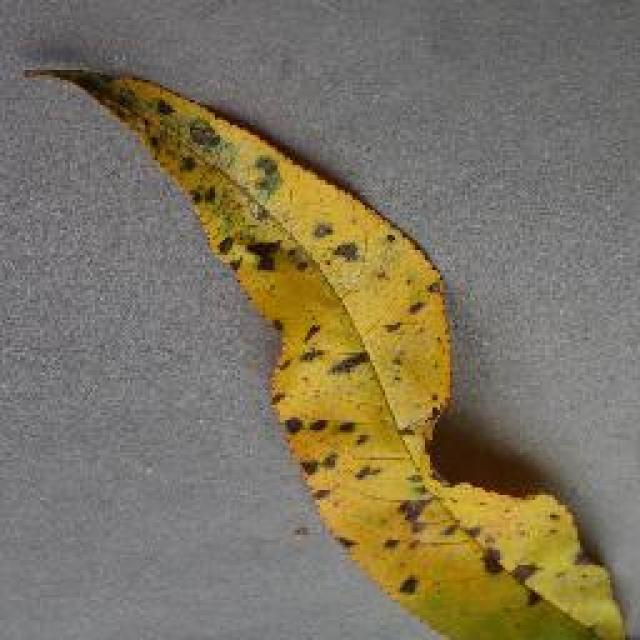Peach_Bacterial_Spot: (130, 87, 493, 518)
